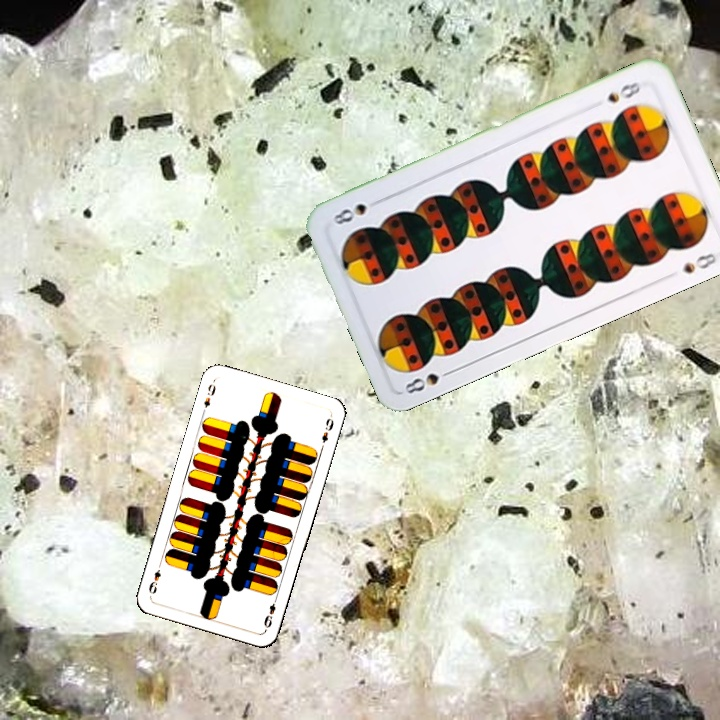E9: (260, 593, 280, 631), (199, 380, 218, 411)
S8: (400, 365, 458, 397), (603, 76, 649, 106)
